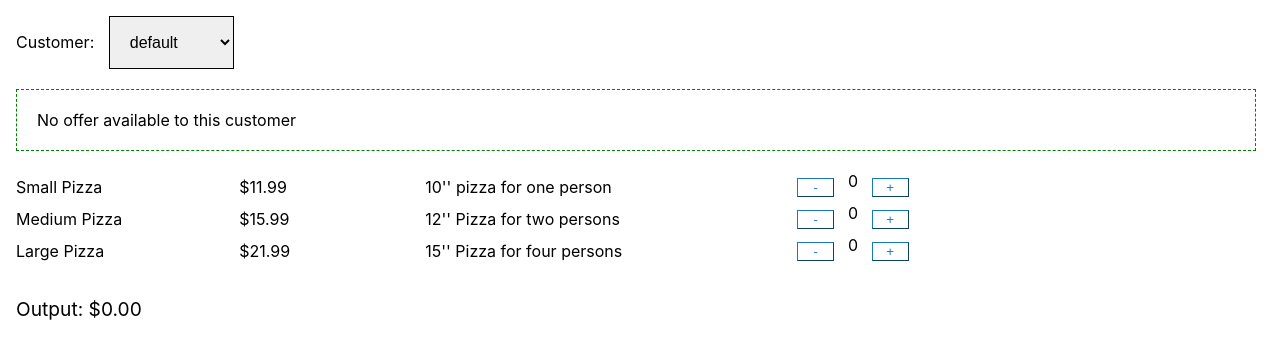
Test: Sample test cases › default : should not get Microsoft's deal
# select microsoft
Step 1. Select "default" in the dropdown with id "idCustomerDropdown" → coordinates (172, 43), box [109,16,234,69]
# add 3 small pizza
Step 2. Click the button with id "idBtnAddSmallPizza" → coordinates (891, 188), box [872,178,909,197]
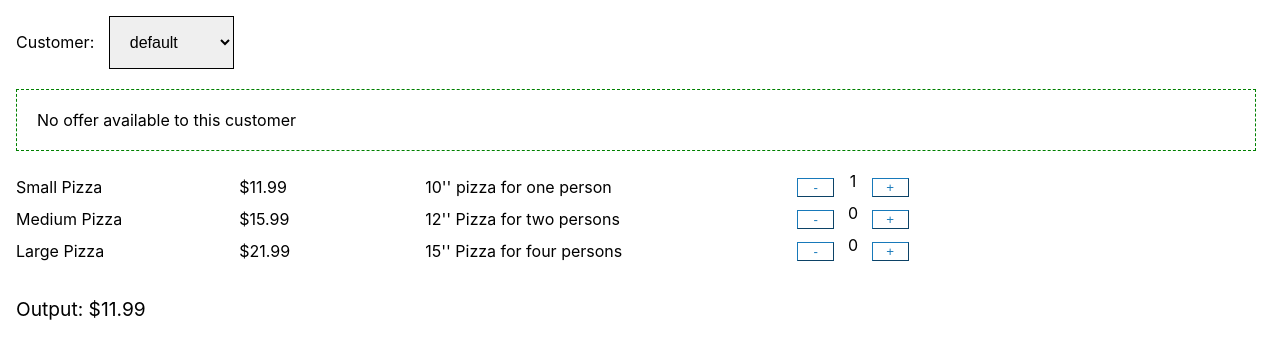
Step 3. Click the button with id "idBtnAddSmallPizza" → coordinates (891, 188), box [872,178,909,197]
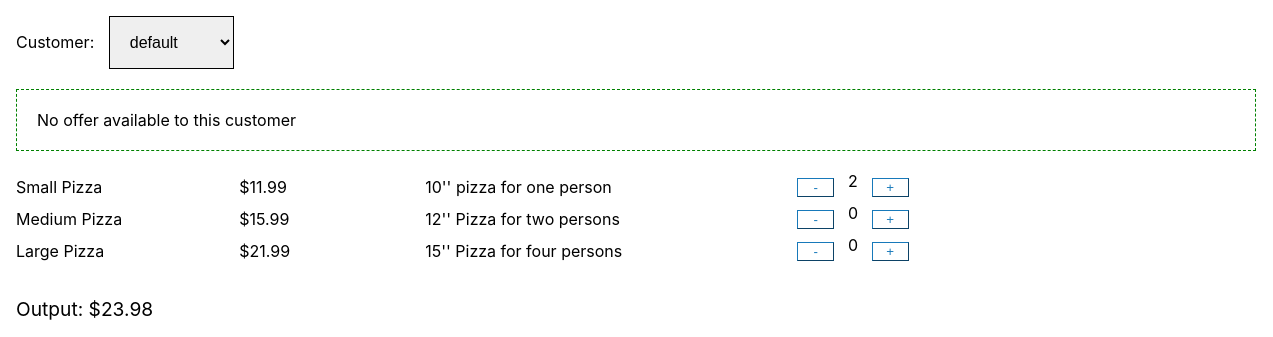
Step 4. Click the button with id "idBtnAddSmallPizza" → coordinates (891, 188), box [872,178,909,197]
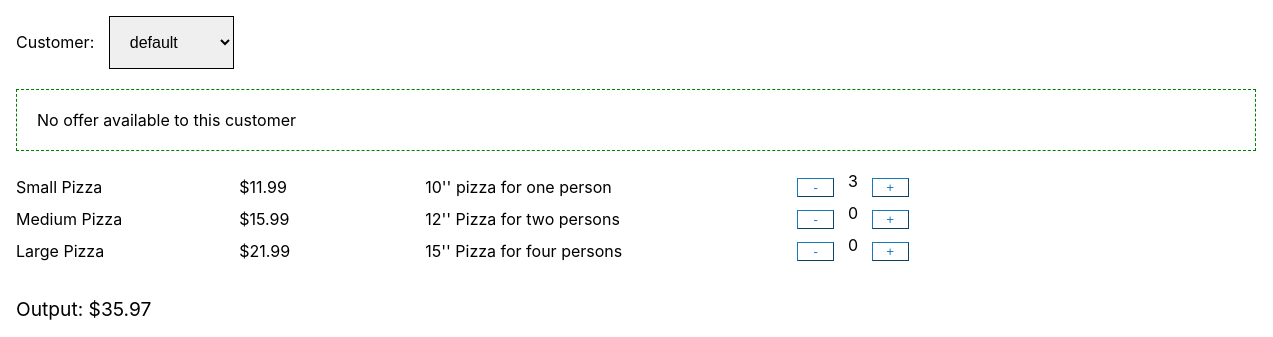
Expected: the text "$23.98" is gone
